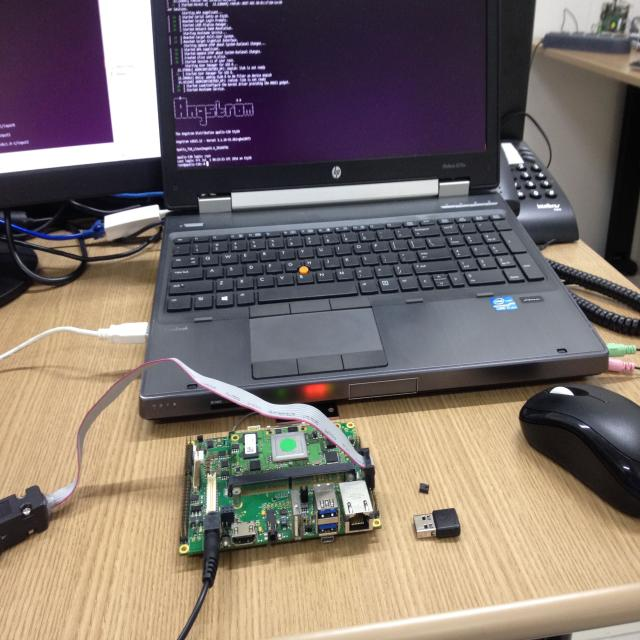som: (229, 424, 355, 477)
